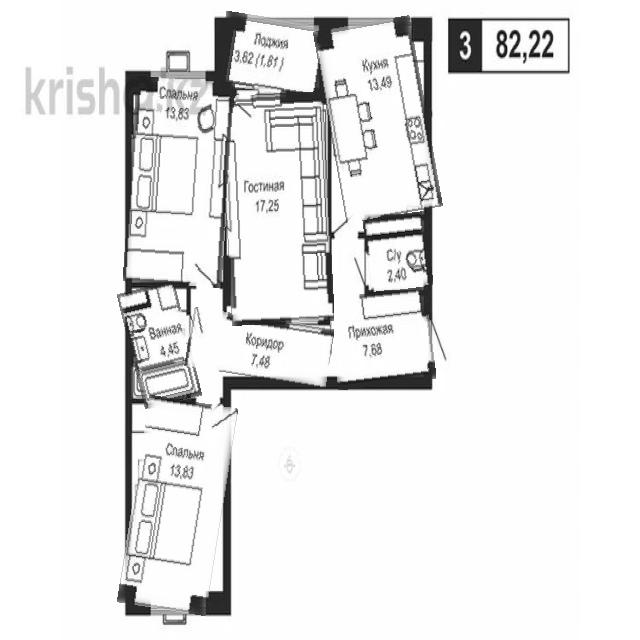balcony: (218, 15, 328, 97)
bathroom: (123, 282, 196, 407), (364, 213, 431, 291)
hallway: (186, 313, 333, 383), (330, 289, 433, 388)
kitchen: (322, 19, 436, 219)
living_room: (223, 93, 332, 325), (125, 398, 231, 613), (126, 78, 231, 287)
